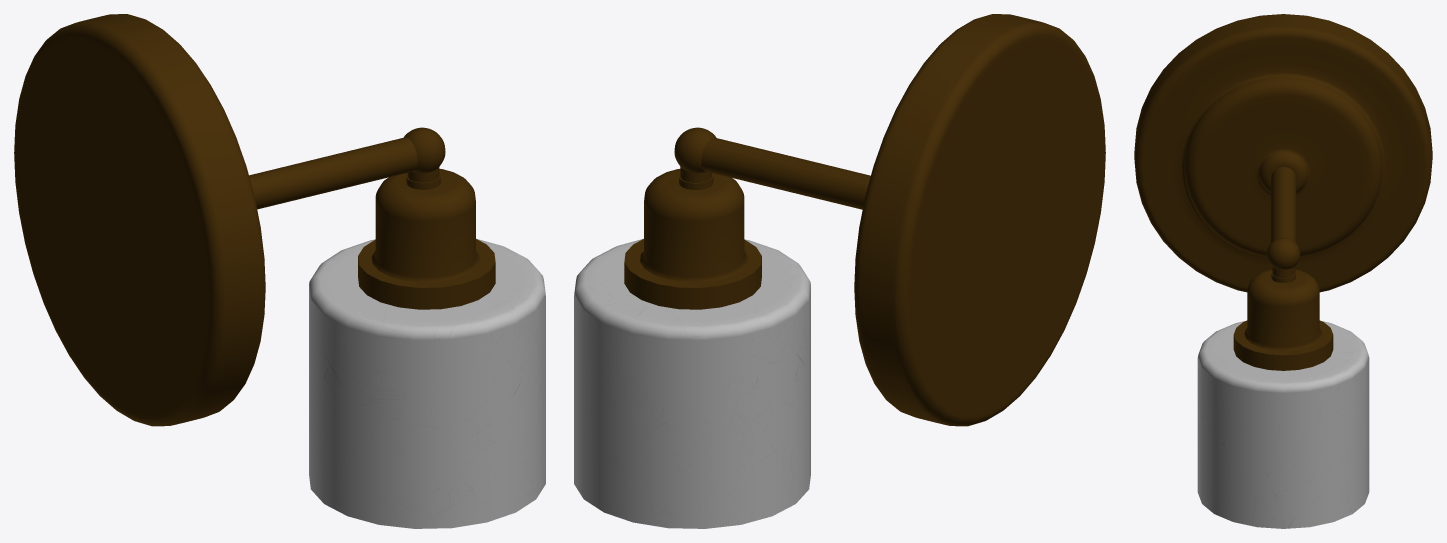
File: HallwayLight.fbx
3 views of the same model, side by side, from view 1: azimuth 30°, elevation 25°; view 2: azimuth 150°, elevation 25°; view 3: azimuth 270°, elevation 25° (orthographic). The views are drawn at different scales.
Parts seen in each view (by area): view 1: structure1:pCylinder1structure, structure1:pCylinder6structure, structure1:pCylinder4structure, structure1:pCylinder2structure, structure1:pCylinder5structure, structure1:pSphere1structure; view 2: structure1:pCylinder1structure, structure1:pCylinder6structure, structure1:pCylinder4structure, structure1:pCylinder2structure, structure1:pCylinder5structure, structure1:pSphere1structure; view 3: structure1:pCylinder1structure, structure1:pCylinder6structure, structure1:pCylinder4structure, structure1:pCylinder5structure, structure1:pCylinder2structure, structure1:pSphere1structure.
Boxes of the visible parts, x1=… form: structure1:pCylinder1structure: x1=14, y1=14, x2=265, y2=426; structure1:pCylinder6structure: x1=309, y1=238, x2=545, y2=528; structure1:pCylinder4structure: x1=371, y1=168, x2=479, y2=281; structure1:pCylinder2structure: x1=249, y1=137, x2=417, y2=209; structure1:pCylinder5structure: x1=358, y1=239, x2=495, y2=309; structure1:pSphere1structure: x1=404, y1=127, x2=445, y2=173; structure1:pCylinder1structure: x1=854, y1=14, x2=1105, y2=426; structure1:pCylinder6structure: x1=574, y1=238, x2=810, y2=528; structure1:pCylinder4structure: x1=640, y1=169, x2=748, y2=281; structure1:pCylinder2structure: x1=701, y1=137, x2=870, y2=209; structure1:pCylinder5structure: x1=624, y1=239, x2=761, y2=309; structure1:pSphere1structure: x1=674, y1=127, x2=716, y2=173; structure1:pCylinder1structure: x1=1134, y1=14, x2=1432, y2=292; structure1:pCylinder6structure: x1=1197, y1=321, x2=1369, y2=528; structure1:pCylinder4structure: x1=1244, y1=269, x2=1322, y2=350; structure1:pCylinder5structure: x1=1233, y1=320, x2=1333, y2=370; structure1:pCylinder2structure: x1=1271, y1=167, x2=1296, y2=242; structure1:pSphere1structure: x1=1266, y1=237, x2=1300, y2=269.
Bounding box in the file's own units: 9.54 × 11.77 × 8.21.
4 materials, 4 textured.
